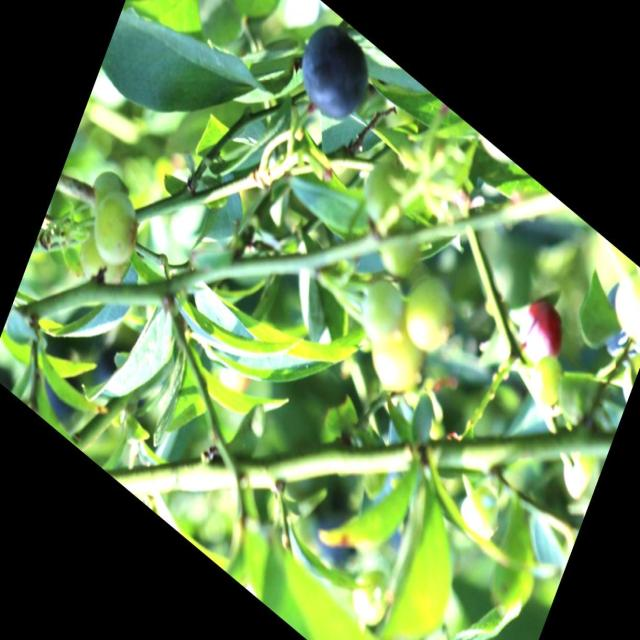blueberry: (289, 7, 380, 138)
blueberry-halfripe: (516, 294, 568, 371)
blueberry-unripe: (81, 180, 146, 276), (365, 318, 431, 408), (356, 264, 410, 348), (400, 274, 454, 358), (456, 472, 506, 548), (525, 345, 570, 414)
